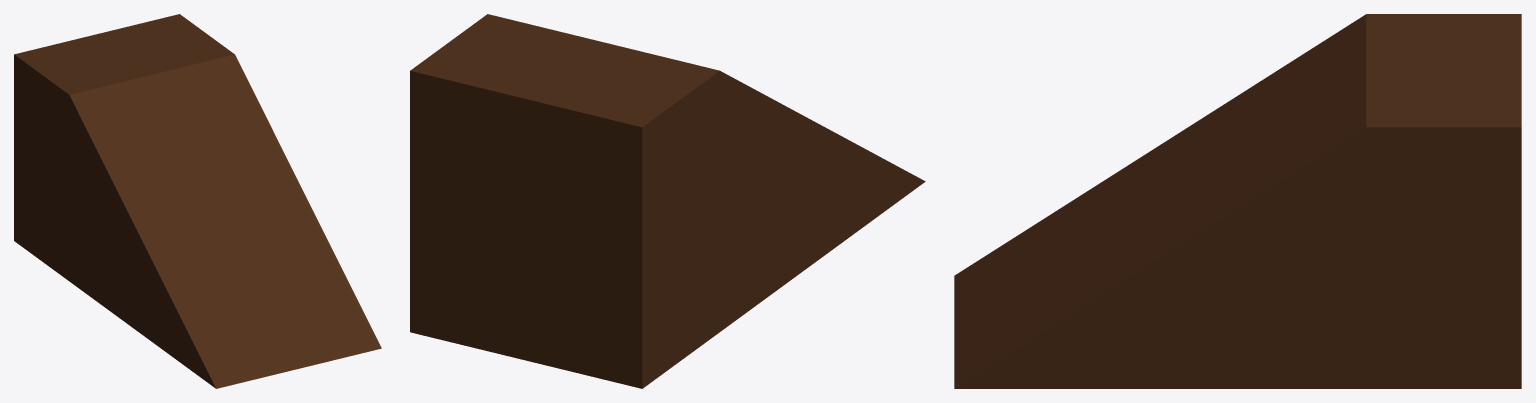
The model's file is Ice_Rink_Support_FBX.fbx.
The picture shows the model from 3 angles, left to right: view 1: azimuth 30°, elevation 25°; view 2: azimuth 150°, elevation 25°; view 3: azimuth 270°, elevation 25°; orthographic projection. The views are drawn at different scales.
Visible parts, largest first — view 1: Support; view 2: Support; view 3: Support.
Part boxes in pixels (<box>): Support: <box>14,14,381,388</box>; Support: <box>410,14,925,388</box>; Support: <box>954,14,1521,388</box>.
Size of the model in its own units: 78.17 by 84.13 by 165.
